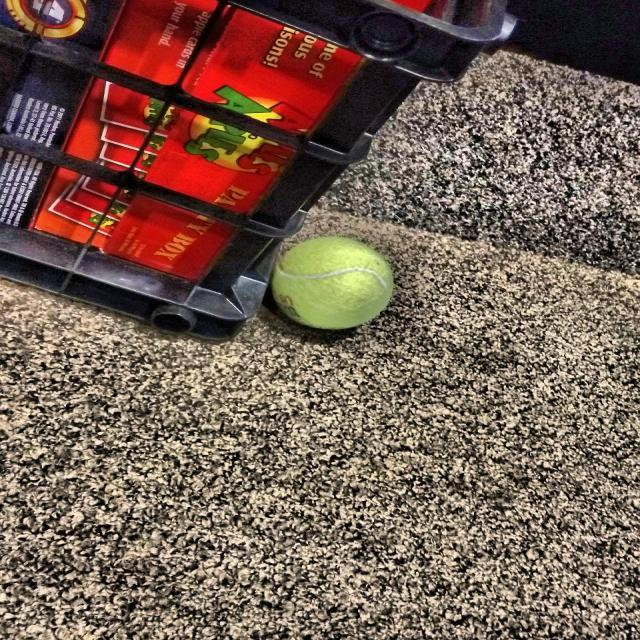tennis-ball: (272, 233, 400, 342)
